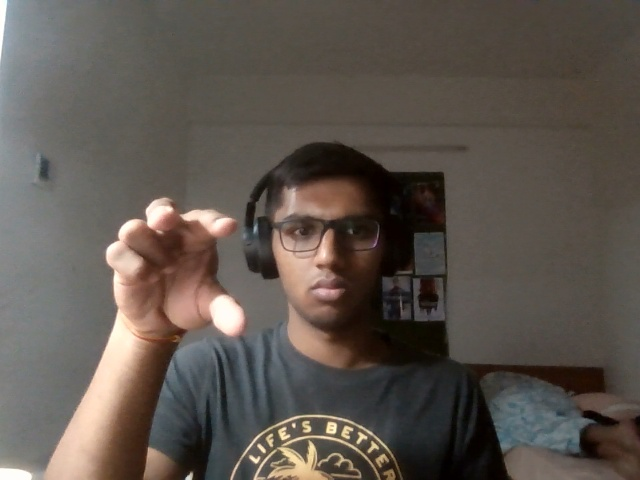no: (61, 189, 260, 342)
